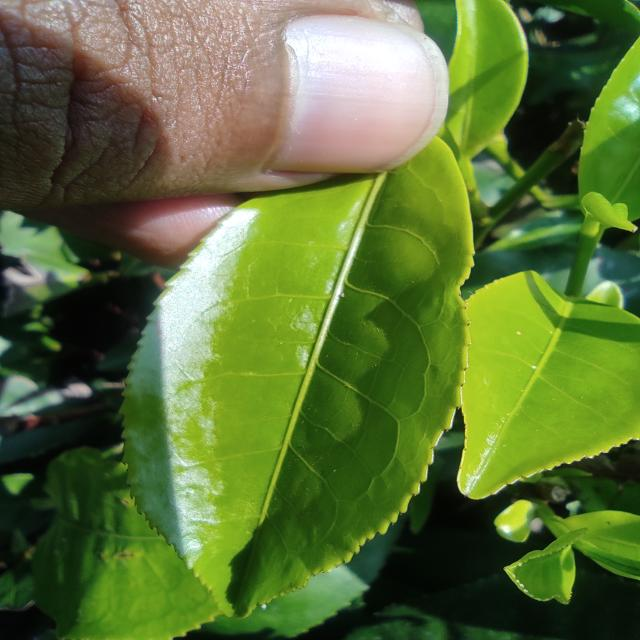Category C(4-7 days): (108, 125, 502, 627)
